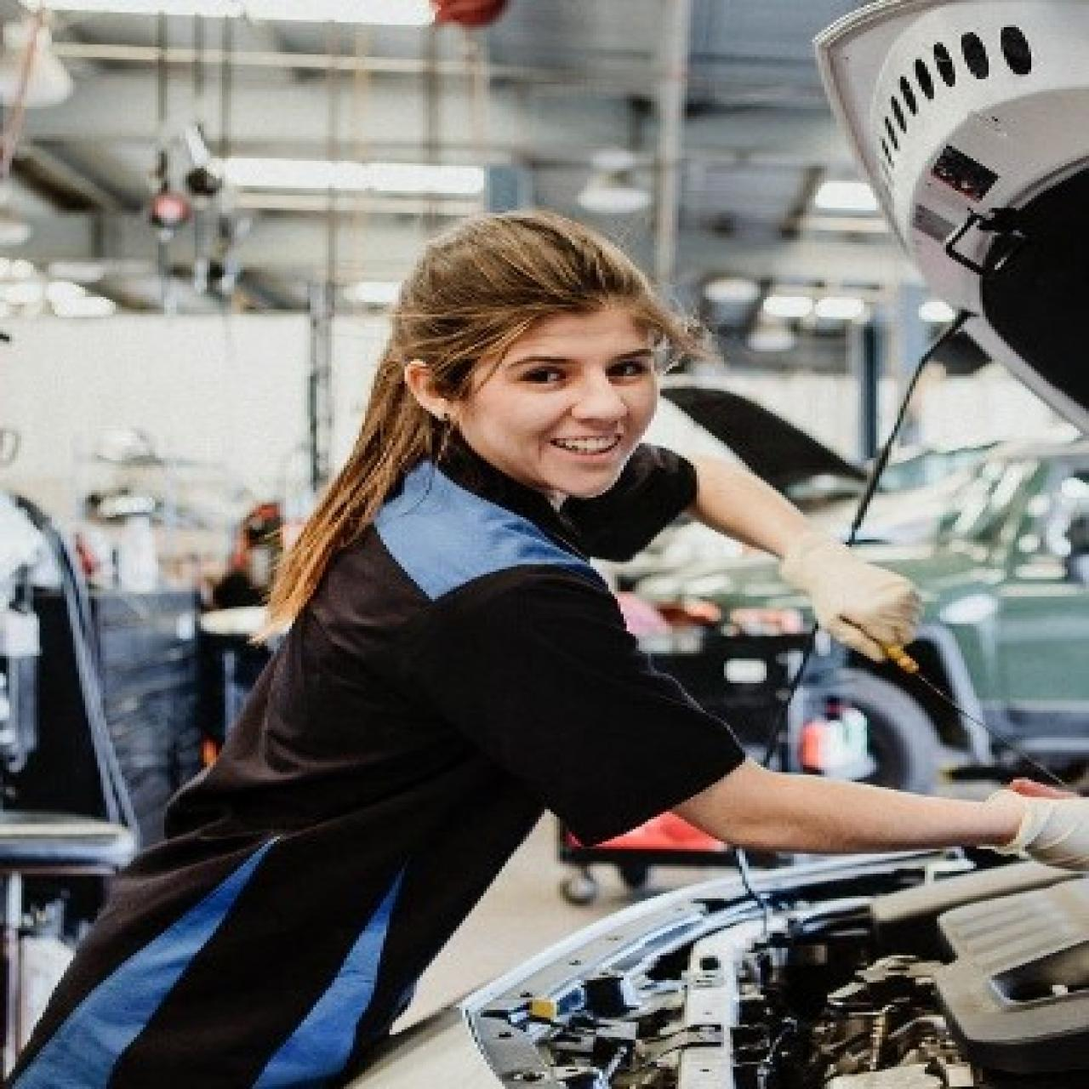NO_Safety_Vest: (213, 468, 692, 965)
Person: (60, 202, 1034, 1089)
